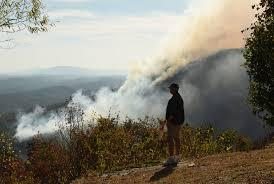yanwu: (13, 0, 247, 132), (11, 62, 164, 141)
